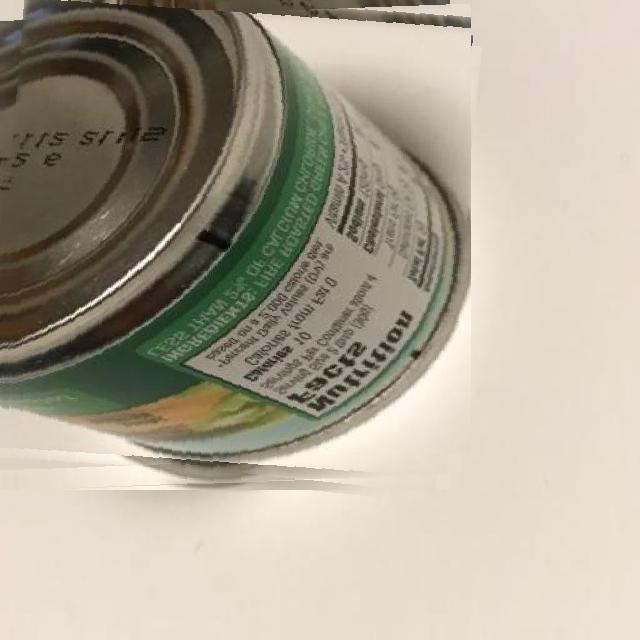recyclable: (0, 0, 471, 491)
